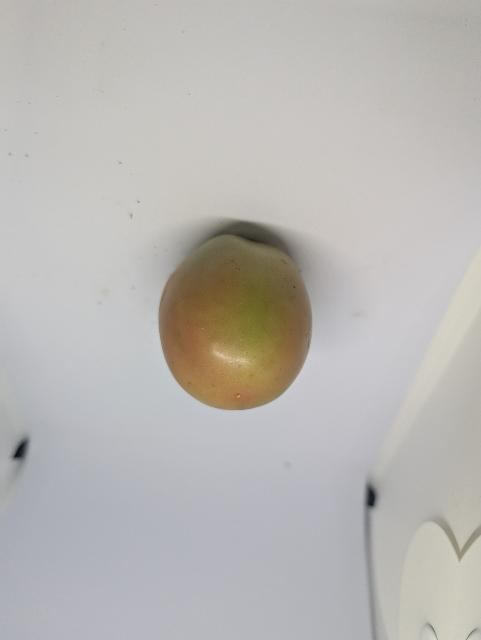turning: (142, 230, 324, 420)
